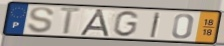0: (171, 13, 196, 40)
A: (77, 8, 113, 38)
G: (111, 10, 141, 38)
I: (149, 11, 163, 39)
S: (26, 6, 56, 35)
T: (58, 6, 85, 36)
